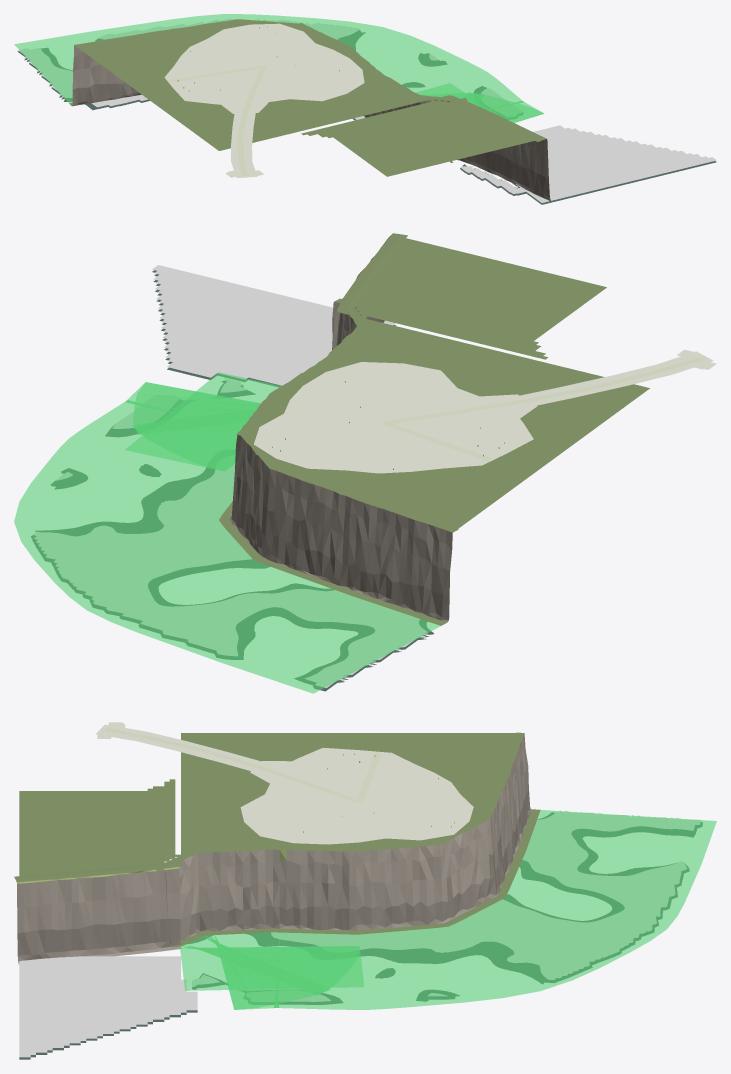
Rendered from mirador.glb.
The picture shows the model from 3 angles, top to bottom: view 1: azimuth 30°, elevation 25°; view 2: azimuth 150°, elevation 25°; view 3: azimuth 270°, elevation 25°; orthographic projection. The views are drawn at different scales.
Visible parts, largest first — view 1: AutoForest_MiradorBajo, AutoForest_Mirador, MiradorClaroMeadow, AutoForest_MiradorSurMeseta, AutoWater_MiradorEnlaceLago, MiradorAcantiladoCanyon, MiradorSurCanyon, AutoWater_MiradorLago, MiradorLagoFondo, MiradorSubidaMeadow, MiradorCaminoPath, MiradorEnlaceLagoFondo (+1 smaller); view 2: AutoForest_MiradorBajo, MiradorAcantiladoCanyon, AutoWater_MiradorLago, AutoForest_Mirador, MiradorClaroMeadow, AutoForest_MiradorSurMeseta, AutoWater_MiradorEnlaceLago, MiradorLagoFondo, MiradorSubidaMeadow, MiradorSurCanyon, MiradorCaminoPath; view 3: AutoForest_MiradorBajo, MiradorAcantiladoCanyon, AutoWater_MiradorLago, AutoForest_Mirador, MiradorClaroMeadow, MiradorSurCanyon, AutoWater_MiradorEnlaceLago, AutoForest_MiradorSurMeseta, MiradorLagoFondo, MiradorSubidaMeadow, MiradorCaminoPath, MiradorEnlaceLagoFondo.
Part boxes in pixels (x1,y1,x2,y2): AutoForest_MiradorBajo: (14,14,544,122); AutoForest_Mirador: (78,20,430,150); MiradorClaroMeadow: (164,23,364,105); AutoForest_MiradorSurMeseta: (301,95,534,176); AutoWater_MiradorEnlaceLago: (516,125,716,202); MiradorAcantiladoCanyon: (69,19,467,160); MiradorSurCanyon: (446,95,551,201); AutoWater_MiradorLago: (18,19,525,194); MiradorLagoFondo: (17,30,525,195); MiradorSubidaMeadow: (231,112,257,177); MiradorCaminoPath: (237,66,266,175); MiradorEnlaceLagoFondo: (511,161,716,204); AutoForest_MiradorBajo: (14,372,440,693); MiradorAcantiladoCanyon: (219,298,458,625); AutoWater_MiradorLago: (33,378,428,687); AutoForest_Mirador: (236,318,649,528); MiradorClaroMeadow: (253,362,533,473); AutoForest_MiradorSurMeseta: (337,238,606,359); AutoWater_MiradorEnlaceLago: (152,265,395,385); MiradorLagoFondo: (31,381,433,691); MiradorSubidaMeadow: (519,351,713,406); MiradorSurCanyon: (332,233,407,349); MiradorCaminoPath: (383,357,703,424); AutoForest_MiradorBajo: (179,810,716,1009); MiradorAcantiladoCanyon: (156,732,540,947); AutoWater_MiradorLago: (192,810,700,1001); AutoForest_Mirador: (181,733,515,855); MiradorClaroMeadow: (240,747,473,844); MiradorSurCanyon: (14,862,181,964); AutoWater_MiradorEnlaceLago: (19,956,197,1057); AutoForest_MiradorSurMeseta: (19,779,180,876); MiradorLagoFondo: (188,812,702,1004); MiradorSubidaMeadow: (96,724,265,771); MiradorCaminoPath: (105,728,360,803); MiradorEnlaceLagoFondo: (19,1010,197,1059).
Size of what is drawn, in the model's own units: 220 by 31.42 by 252.
